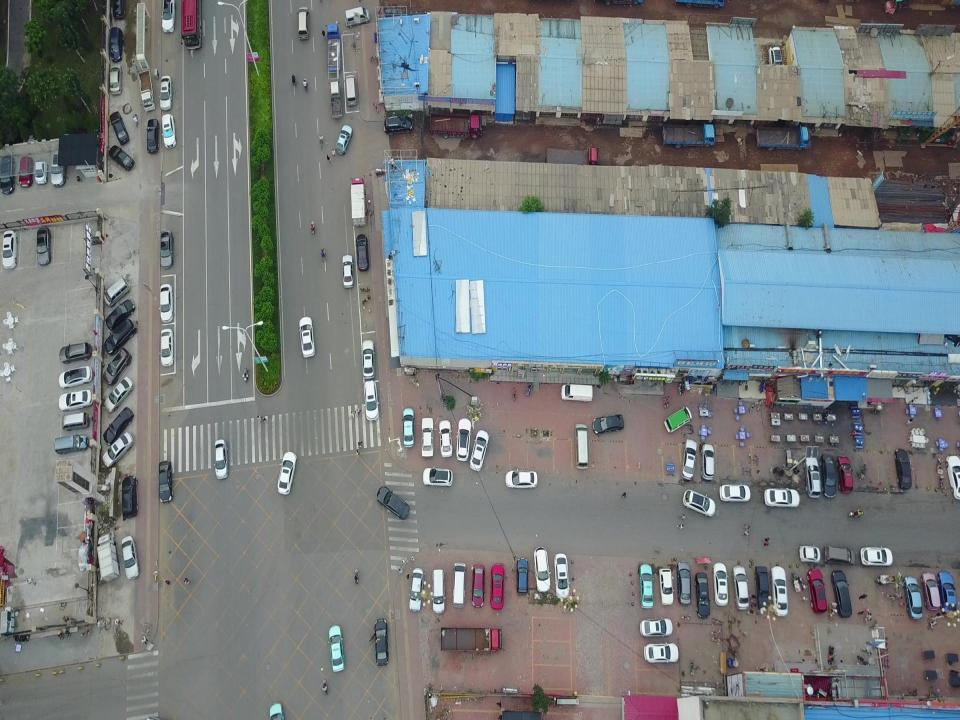car: (102, 318, 136, 354), (104, 406, 134, 445), (376, 485, 410, 519), (102, 431, 133, 468), (103, 374, 133, 412), (103, 347, 132, 385), (806, 568, 828, 614), (831, 568, 852, 616), (105, 297, 135, 330), (277, 448, 297, 495), (770, 564, 788, 616), (684, 489, 716, 518), (369, 620, 389, 666), (121, 534, 140, 580), (469, 429, 489, 472), (938, 571, 958, 613), (803, 452, 821, 498), (732, 564, 750, 610), (328, 626, 346, 672), (920, 570, 940, 611), (904, 575, 923, 618), (58, 366, 92, 389), (554, 550, 570, 598), (108, 144, 134, 173), (695, 571, 711, 618), (894, 449, 912, 490), (58, 390, 93, 411), (644, 643, 679, 664), (59, 342, 92, 364), (110, 111, 130, 147), (122, 475, 138, 520), (820, 453, 836, 498), (534, 547, 550, 592), (765, 487, 799, 508), (860, 545, 892, 567), (755, 565, 771, 609), (677, 560, 692, 606), (158, 461, 174, 504), (713, 563, 729, 606), (299, 316, 315, 358), (363, 380, 379, 421), (640, 563, 654, 609), (641, 617, 673, 637), (159, 227, 174, 269), (946, 455, 960, 500), (593, 414, 624, 434), (457, 416, 471, 460), (159, 283, 174, 324), (491, 563, 504, 610), (160, 330, 176, 368), (505, 470, 537, 489), (658, 567, 674, 605), (682, 438, 696, 481), (423, 466, 453, 486), (837, 456, 853, 493), (215, 438, 229, 480), (409, 569, 423, 611), (51, 151, 67, 187), (3, 230, 17, 270), (384, 115, 413, 134), (1, 156, 15, 195), (37, 227, 51, 266), (161, 114, 177, 148), (335, 124, 353, 154), (720, 484, 750, 502), (356, 233, 370, 271), (700, 443, 714, 481), (161, 1, 177, 34), (472, 564, 484, 608), (402, 407, 415, 447), (146, 118, 160, 155), (439, 420, 453, 457), (362, 340, 375, 379), (422, 418, 434, 457), (341, 254, 354, 289), (160, 74, 172, 111), (516, 558, 528, 595), (110, 64, 123, 97), (19, 157, 33, 187), (799, 545, 821, 562), (34, 160, 48, 185), (112, 1, 126, 19), (270, 701, 284, 719)
truck: (440, 626, 502, 652), (755, 124, 811, 151), (430, 115, 484, 139), (97, 531, 121, 583), (661, 126, 716, 147), (546, 146, 600, 167), (180, 1, 202, 52), (326, 23, 342, 80), (350, 176, 366, 228), (138, 69, 156, 111), (330, 82, 343, 120)
van: (105, 276, 131, 307), (664, 407, 692, 433), (824, 545, 856, 566), (54, 435, 89, 454), (575, 423, 589, 469), (452, 562, 466, 608), (431, 570, 445, 614), (561, 384, 593, 402), (344, 4, 370, 26), (108, 26, 124, 61), (61, 412, 89, 431), (297, 6, 310, 43), (345, 75, 357, 108)
